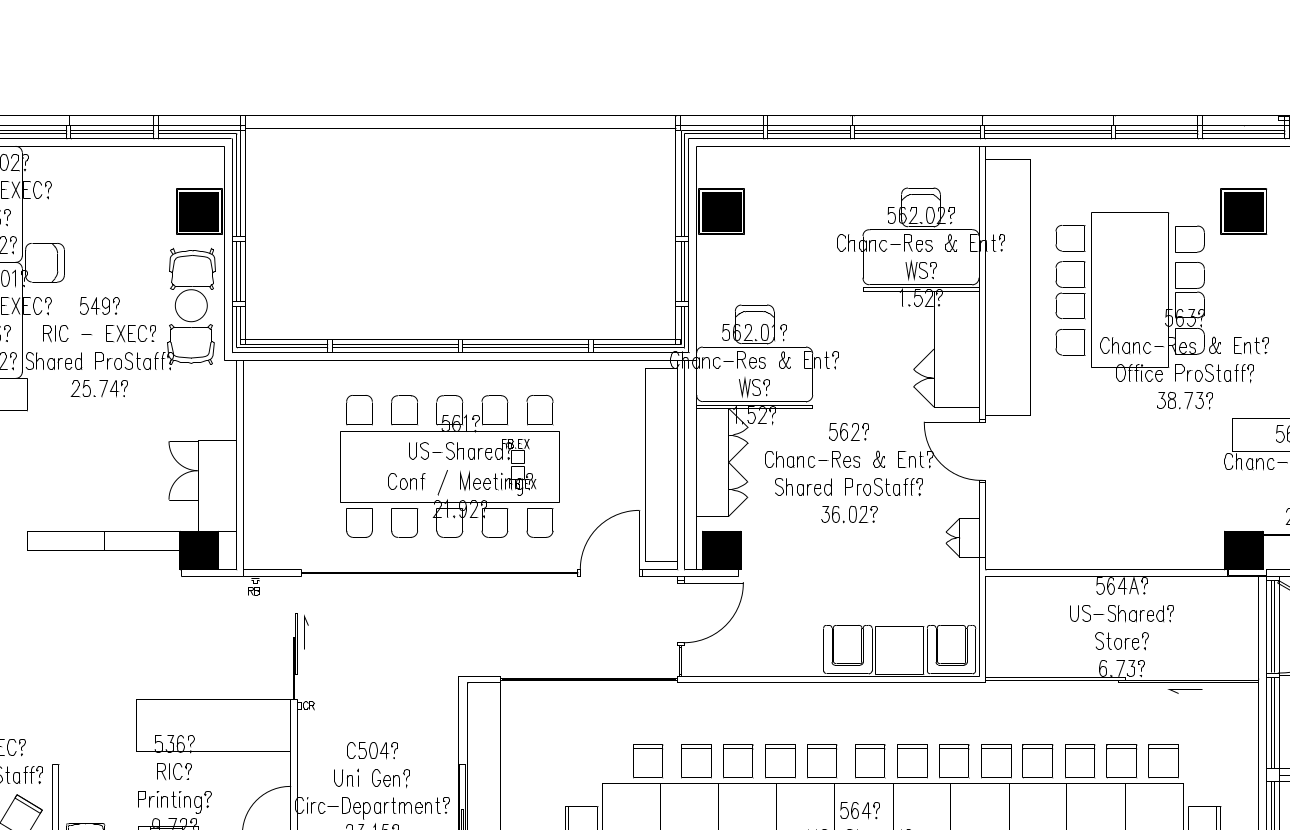door: (678, 578, 748, 650), (577, 504, 643, 577), (918, 415, 984, 487), (236, 781, 292, 830)
